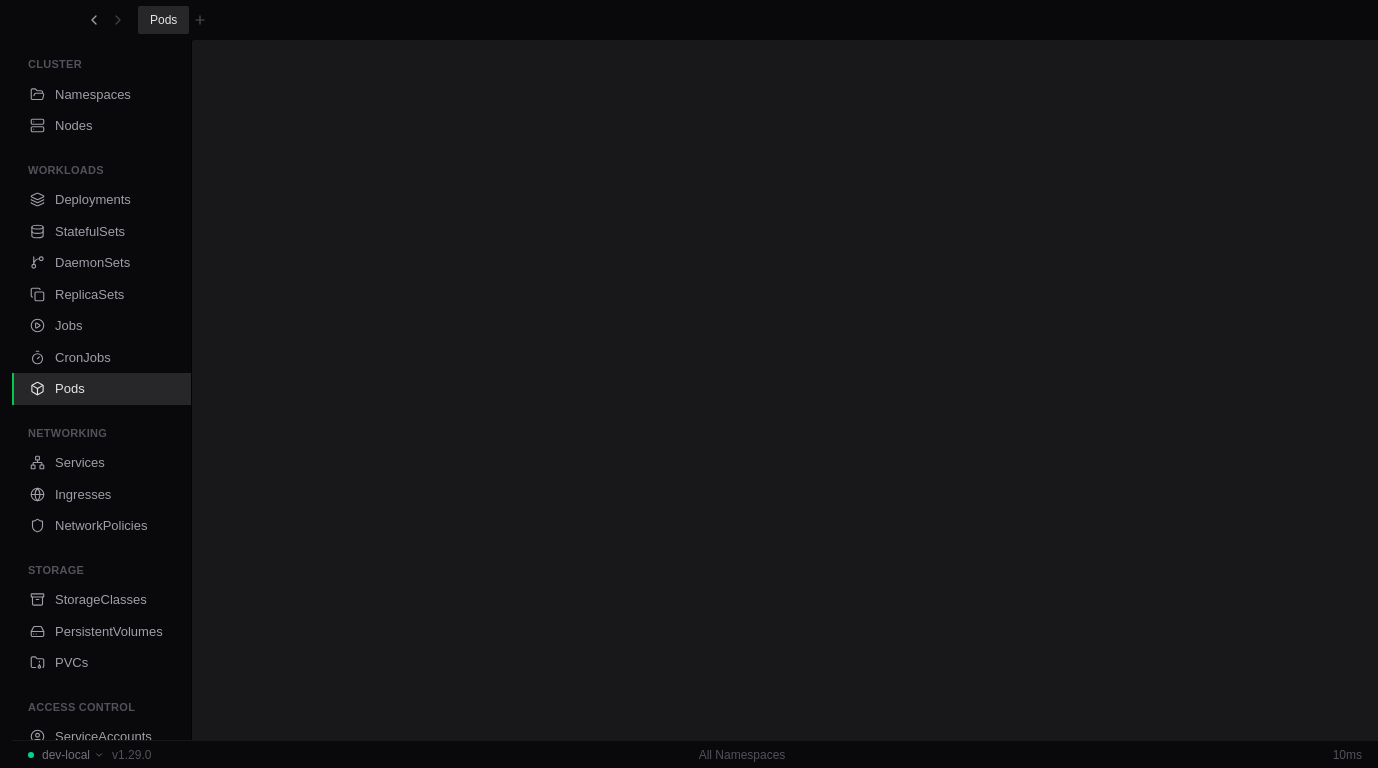
Test: DeploymentListView › navigates to deployments view when clicking Deployments in sidebar
The image size is (1378, 768).
Click the button "Deployments" at (102, 200), box [12, 184, 191, 216]
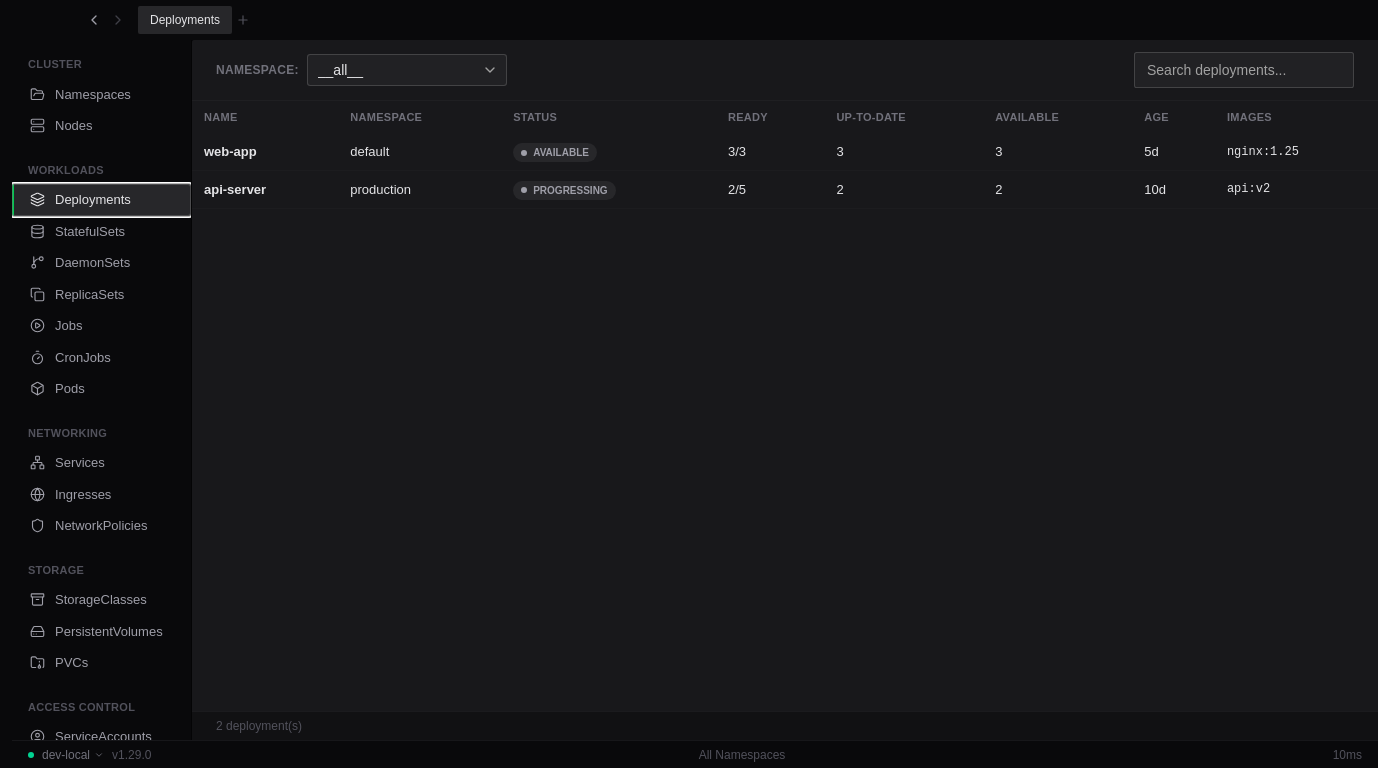
Expected: the field with placeholder "Search deployments..." is shown, [1134, 52, 1354, 88]
